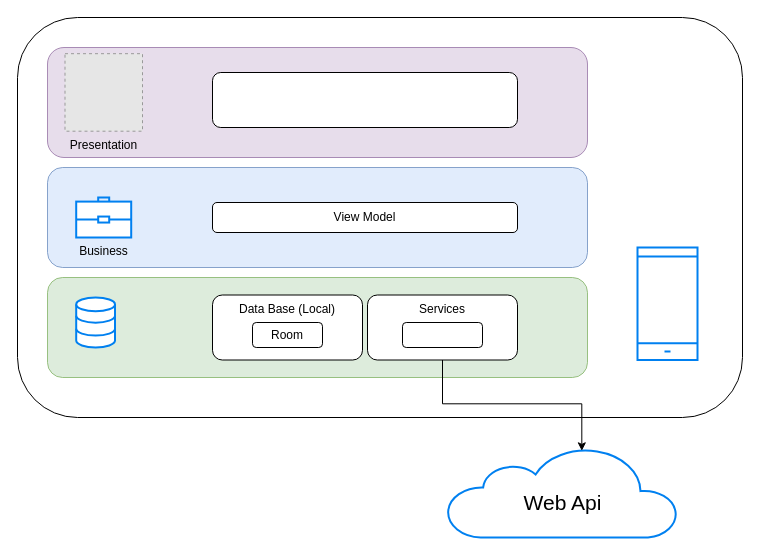
Image size: 760x556. Some labels were removed from this diagram. Grey dashed boxes stand in for pictures. The centre of each missing label's shape, as x and y in pixels:
"Data" goes at point 95,322.
"Mobile Device" goes at point 667,303.
"User Interface" goes at point 365,100.
"Volley" goes at point 442,335.
